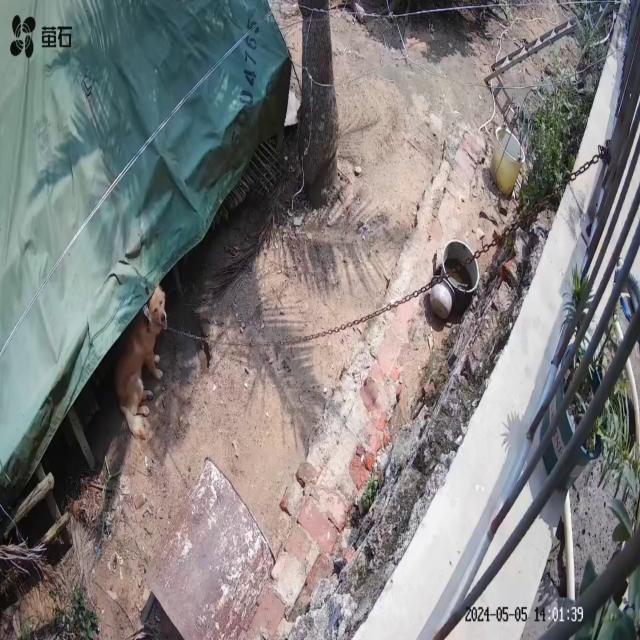dog: (113, 285, 169, 441)
